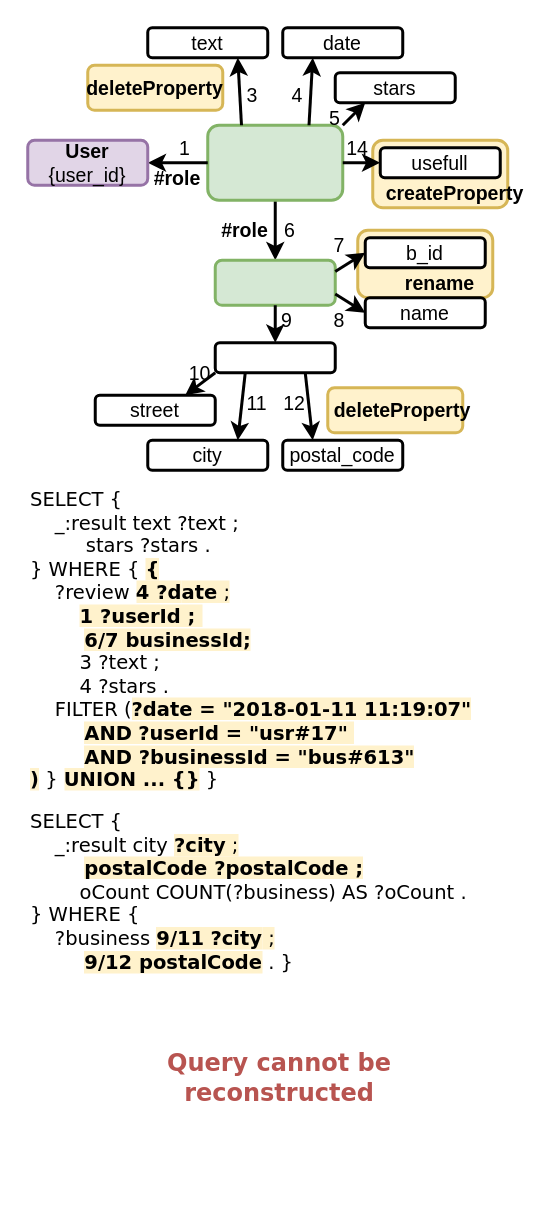
Some shapes in this 557 by 1209 pixel diagram are drawn without their labels. Each missing label, with the centre of its shape:
address: the point at 274,357
Business {b_id}: the point at 274,282
Review {user_id, date, b_id}: the point at 275,162
